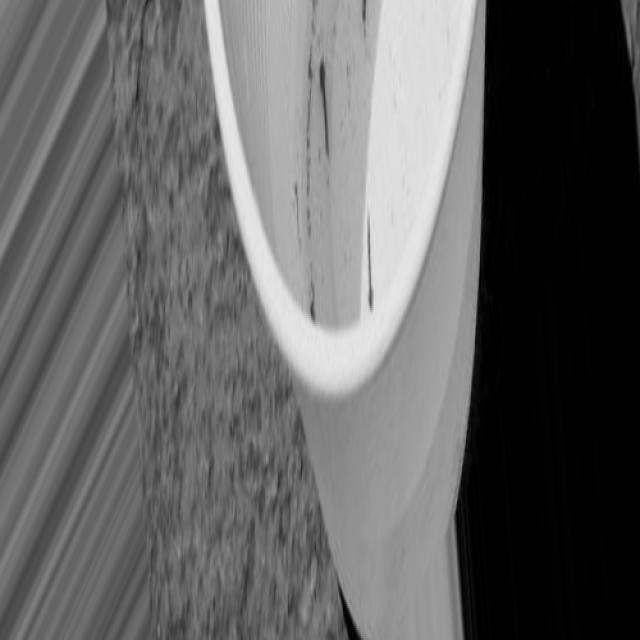larvas: (318, 62, 329, 152), (365, 219, 374, 309), (358, 0, 370, 38)
